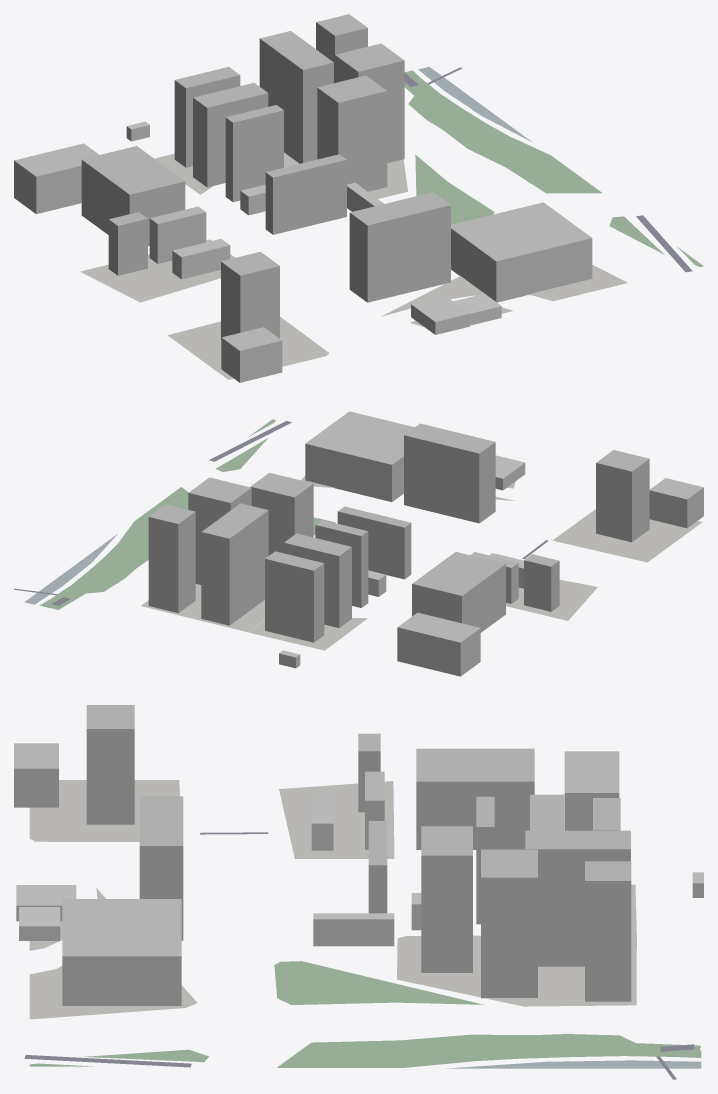
The model's file is 121_85_mid.glb.
3 renders of one model, top to bottom at view 1: azimuth 30°, elevation 25°; view 2: azimuth 150°, elevation 25°; view 3: azimuth 270°, elevation 25°, orthographic. The views are drawn at different scales.
Bounding box in the file's own units: 523 × 101 × 514.
